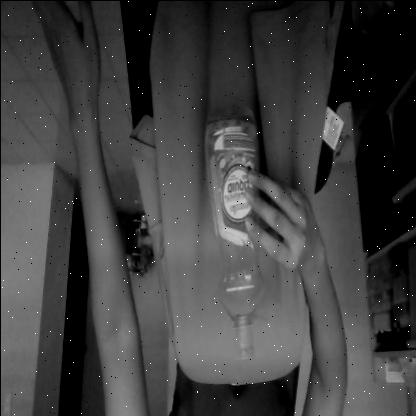Plastic Bottle: (205, 93, 267, 361)
